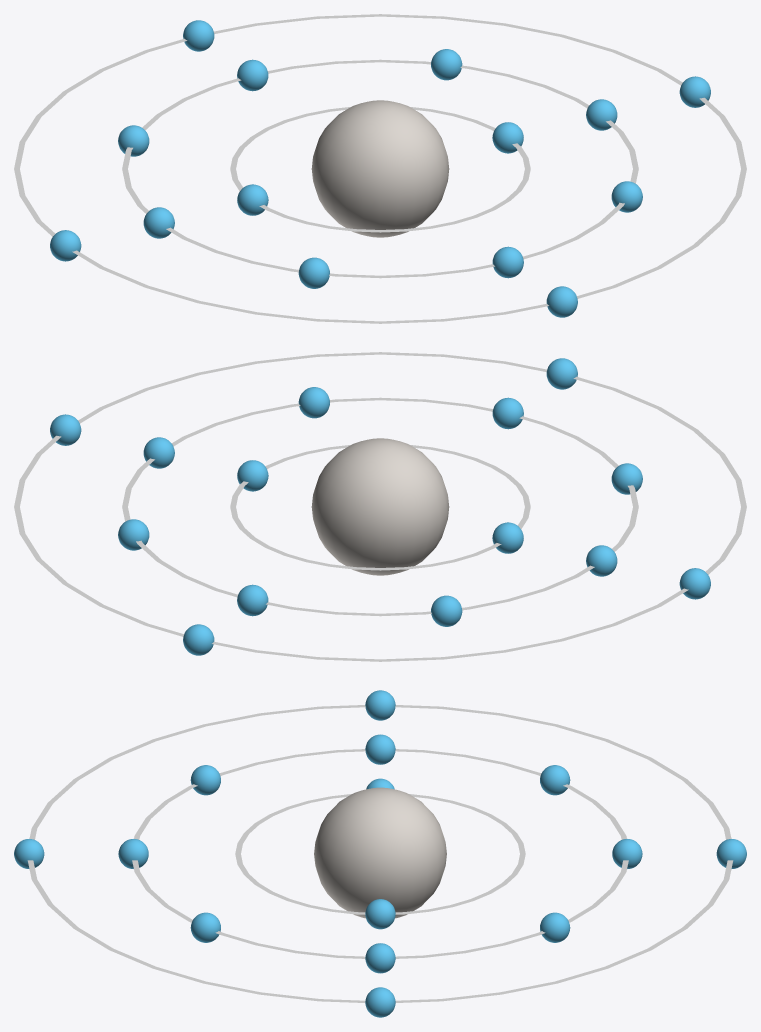
Rendered from silicon_atom.glb.
3 views of the same model, one above another, from view 1: azimuth 30°, elevation 25°; view 2: azimuth 150°, elevation 25°; view 3: azimuth 270°, elevation 25° (orthographic). The views are drawn at different scales.
Parts seen in each view (by area): view 1: nucleus_node, shell_ring_2, shell_ring_1, shell_ring_0, electron_node_2_1, electron_node_1_3, electron_node_1_7, electron_node_2_3, electron_node_1_2, electron_node_1_6, electron_node_1_4, electron_node_0_1 (+6 smaller); view 2: nucleus_node, shell_ring_2, shell_ring_1, shell_ring_0, electron_node_2_3, electron_node_1_5, electron_node_1_1, electron_node_2_1, electron_node_1_6, electron_node_1_2, electron_node_1_4, electron_node_0_1 (+6 smaller); view 3: nucleus_node, shell_ring_2, shell_ring_1, shell_ring_0, electron_node_2_0, electron_node_2_2, electron_node_1_0, electron_node_1_4, electron_node_0_0, electron_node_1_1, electron_node_1_7, electron_node_1_3 (+5 smaller).
Part boxes in pixels (box(x1,y1,x2,y2)): nucleus_node: box(311, 100, 449, 237); shell_ring_2: box(14, 14, 746, 323); shell_ring_1: box(122, 59, 638, 278); shell_ring_0: box(230, 106, 530, 232); electron_node_2_1: box(546, 286, 577, 317); electron_node_1_3: box(298, 257, 329, 288); electron_node_1_7: box(431, 49, 462, 80); electron_node_2_3: box(183, 20, 214, 51); electron_node_1_2: box(492, 246, 523, 278); electron_node_1_6: box(237, 59, 268, 91); electron_node_1_4: box(143, 207, 174, 238); electron_node_0_1: box(237, 184, 268, 215); nucleus_node: box(311, 438, 449, 575); shell_ring_2: box(14, 352, 746, 661); shell_ring_1: box(122, 397, 638, 616); shell_ring_0: box(230, 444, 530, 570); electron_node_2_3: box(183, 624, 214, 655); electron_node_1_5: box(431, 595, 462, 626); electron_node_1_1: box(298, 387, 329, 418); electron_node_2_1: box(546, 358, 577, 389); electron_node_1_6: box(237, 584, 268, 616); electron_node_1_2: box(492, 397, 523, 429); electron_node_1_4: box(586, 545, 617, 576); electron_node_0_1: box(492, 522, 523, 553); nucleus_node: box(314, 787, 446, 918); shell_ring_2: box(27, 705, 733, 1002); shell_ring_1: box(132, 749, 628, 958); shell_ring_0: box(235, 794, 525, 914); electron_node_2_0: box(365, 987, 395, 1017); electron_node_2_2: box(365, 690, 395, 720); electron_node_1_0: box(365, 943, 395, 973); electron_node_1_4: box(365, 734, 395, 764); electron_node_0_0: box(365, 899, 395, 929); electron_node_1_1: box(190, 912, 220, 942); electron_node_1_7: box(540, 912, 570, 942); electron_node_1_3: box(190, 765, 220, 795).
Bounding box in the file's own units: 3.86 × 0.7 × 3.86.
